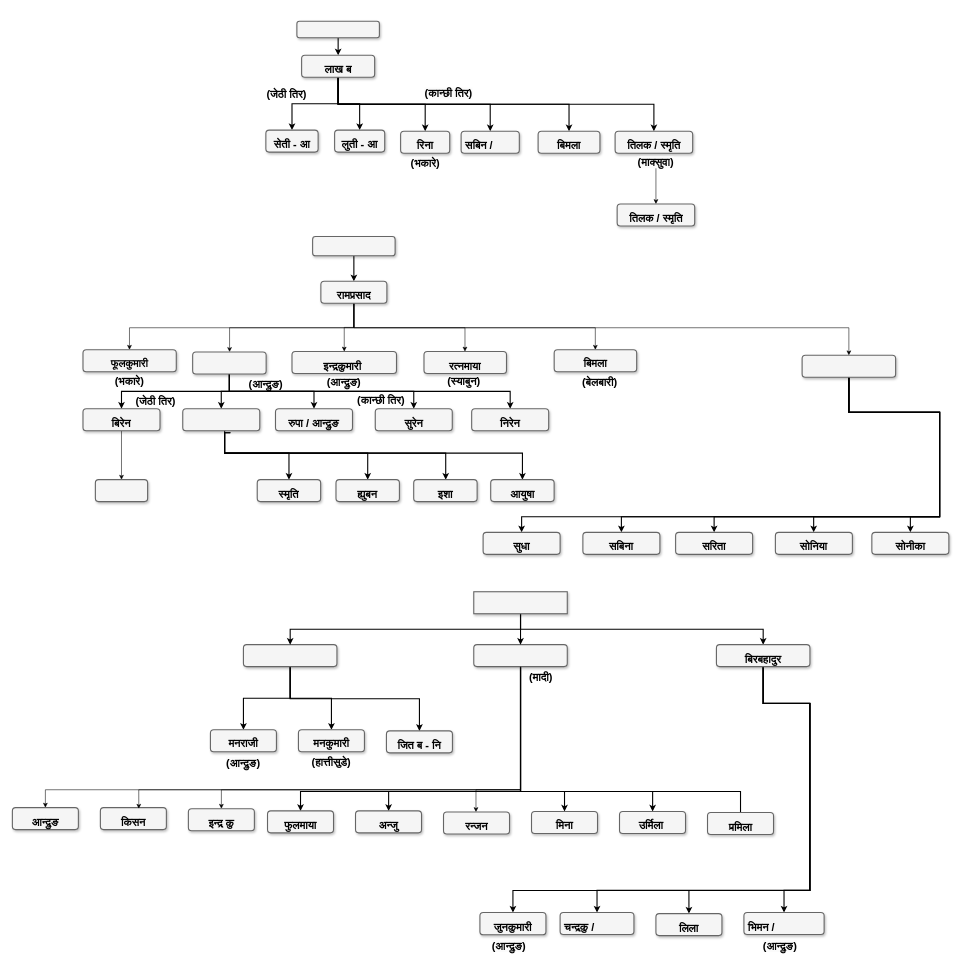
Image size: 962x964. Some labels were removed from this diagram. Each missing label, with the centre of its shape:
"जयबहादुर" belongs at (338,30).
"जिबन" belongs at (221,420).
"ज्ञानबहादुर" belongs at (521,603).
"दिलबहादुर - आ" belongs at (521,656).
"धनबहादुर" belongs at (354,247).
"पदमबहादुर" belongs at (290,656).
"शेर ब" belongs at (230,363).
"सूर्यप्रकाश / रमैली" belongs at (849,366).
